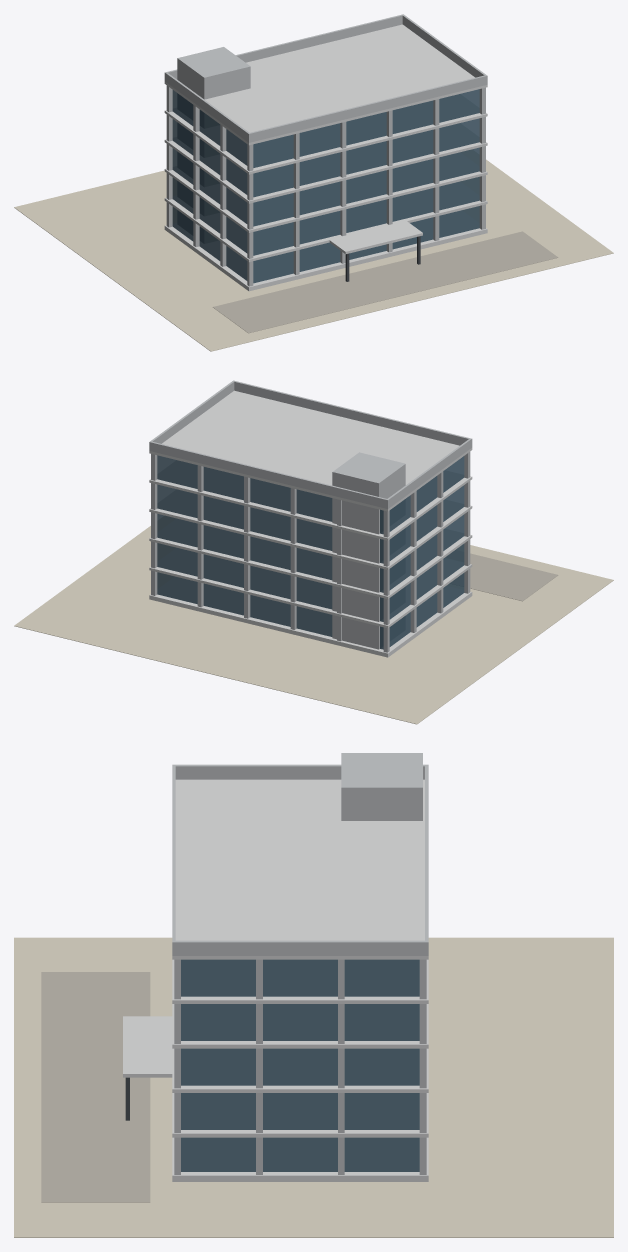
Rendered from legon.glb.
3 renders of one model, top to bottom at view 1: azimuth 30°, elevation 25°; view 2: azimuth 150°, elevation 25°; view 3: azimuth 270°, elevation 25°, orthographic. The views are drawn at different scales.
Parts seen in each view (by area): view 1: Site, Slab, level 5, Forecourt, Column (×9), Curtain wall, level 1, Curtain wall, level 2, Curtain wall, level 4, Curtain wall, level 3, Curtain wall, level 0, East Legon office complex, Stair core, Ground slab (+6 smaller); view 2: Site, Slab, level 5, Stair core, Column (×9), Curtain wall, level 1, Curtain wall, level 3, Curtain wall, level 2, Curtain wall, level 4, Curtain wall, level 0, East Legon office complex, Ground slab, Forecourt (+5 smaller); view 3: Site, Slab, level 5, Forecourt, Curtain wall, level 2, Curtain wall, level 4, Curtain wall, level 1, Curtain wall, level 3, Curtain wall, level 0, East Legon office complex, Column (×4), Stair core, Ground slab (+6 smaller).
Part boxes in pixels (box(x1,y1,x2,y2)): Site: box(14, 159, 613, 351); Slab, level 5: box(164, 24, 487, 145); Forecourt: box(213, 231, 558, 333); Column (×9): box(166, 85, 485, 286); Curtain wall, level 1: box(172, 177, 479, 255); Curtain wall, level 2: box(172, 147, 479, 226); Curtain wall, level 4: box(172, 89, 479, 167); Curtain wall, level 3: box(172, 118, 479, 197); Curtain wall, level 0: box(172, 206, 479, 283); East Legon office complex: box(164, 14, 485, 281); Stair core: box(177, 47, 250, 241); Ground slab: box(164, 224, 487, 291); Site: box(14, 516, 613, 724); Slab, level 5: box(149, 390, 472, 511); Stair core: box(332, 452, 405, 649); Column (×9): box(151, 452, 470, 652); Curtain wall, level 1: box(157, 543, 464, 621); Curtain wall, level 3: box(157, 484, 464, 563); Curtain wall, level 2: box(157, 514, 464, 592); Curtain wall, level 4: box(157, 455, 464, 534); Curtain wall, level 0: box(157, 572, 464, 649); East Legon office complex: box(149, 381, 472, 508); Ground slab: box(149, 583, 472, 657); Forecourt: box(461, 553, 558, 601); Site: box(14, 937, 613, 1237); Slab, level 5: box(172, 779, 428, 959); Forecourt: box(41, 972, 150, 1202); Curtain wall, level 2: box(181, 1048, 419, 1085); Curtain wall, level 4: box(181, 959, 419, 996); Curtain wall, level 1: box(181, 1093, 419, 1129); Curtain wall, level 3: box(181, 1004, 419, 1040); Curtain wall, level 0: box(181, 1137, 419, 1171); East Legon office complex: box(125, 764, 428, 1120); Column (×4): box(174, 959, 426, 1174); Stair core: box(341, 753, 422, 820); Ground slab: box(172, 1137, 428, 1181).
Size of the model in its own units: 52 by 21.05 by 44.
